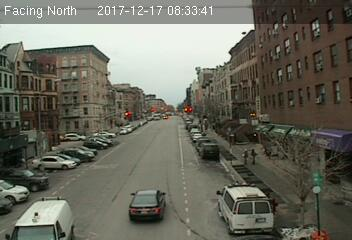car: (129, 186, 167, 223), (198, 143, 219, 161)
pedestrian: (241, 148, 250, 166), (250, 148, 257, 167)
police: (215, 181, 273, 231)
